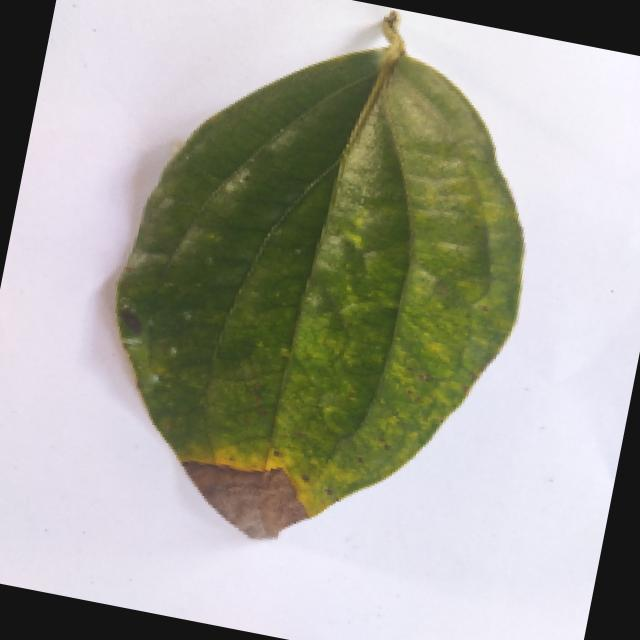footrot: (71, 0, 565, 577)
